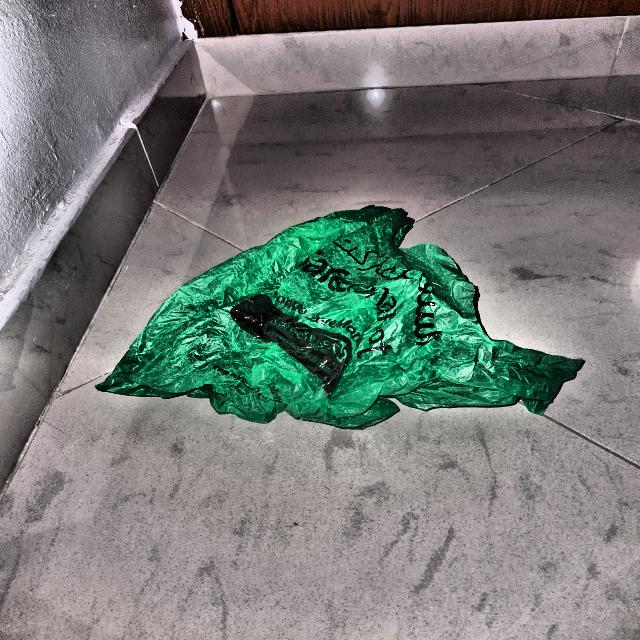plastic bag: (93, 210, 583, 432)
